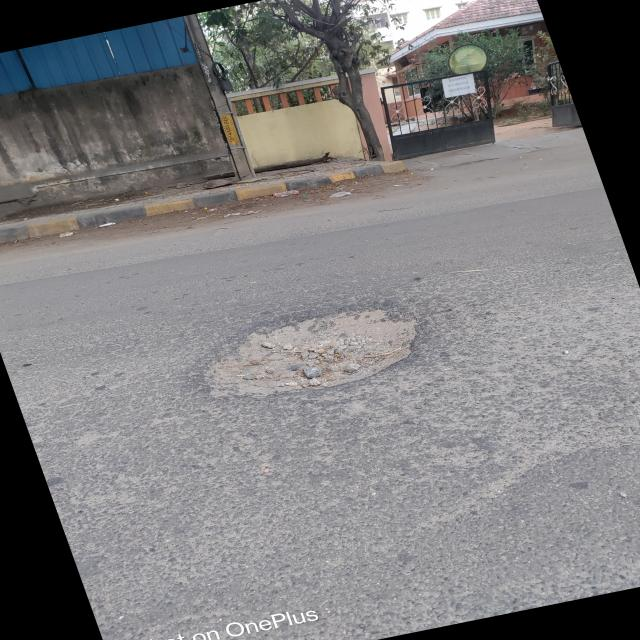potholes: (187, 301, 441, 401)
